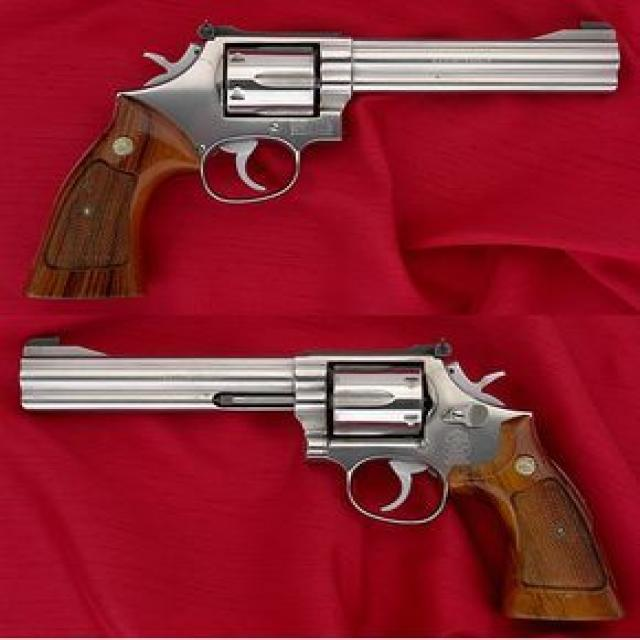revolver: (0, 0, 638, 315)
